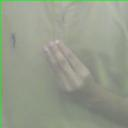hand: (42, 39, 98, 109)
